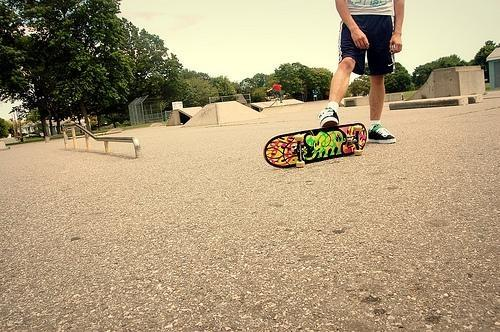car: (64, 122, 86, 136), (26, 134, 40, 138)
